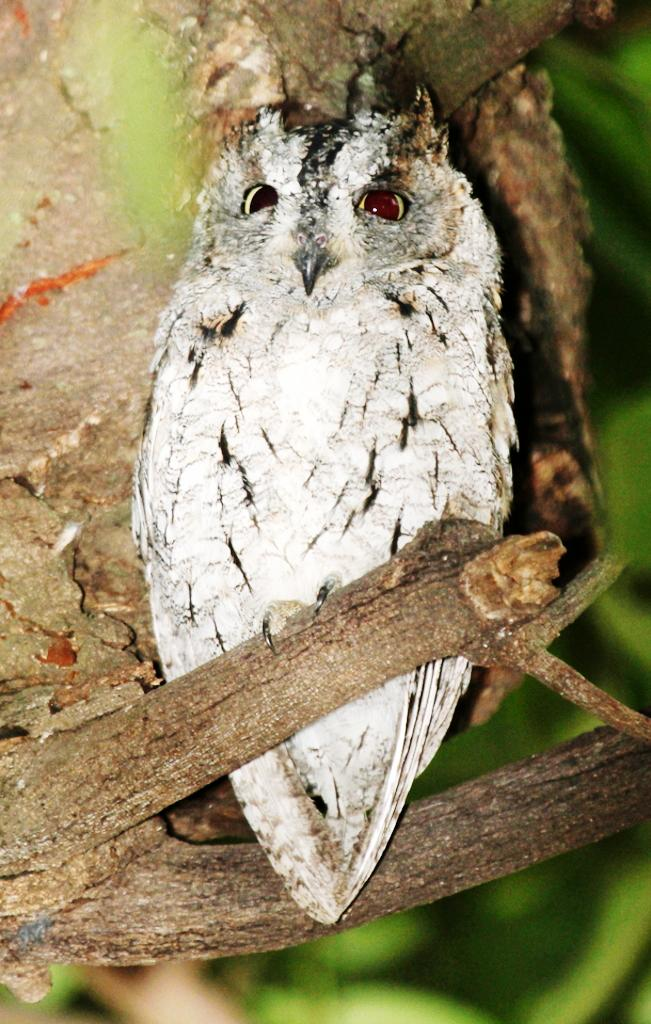Owl: (121, 84, 525, 934)
